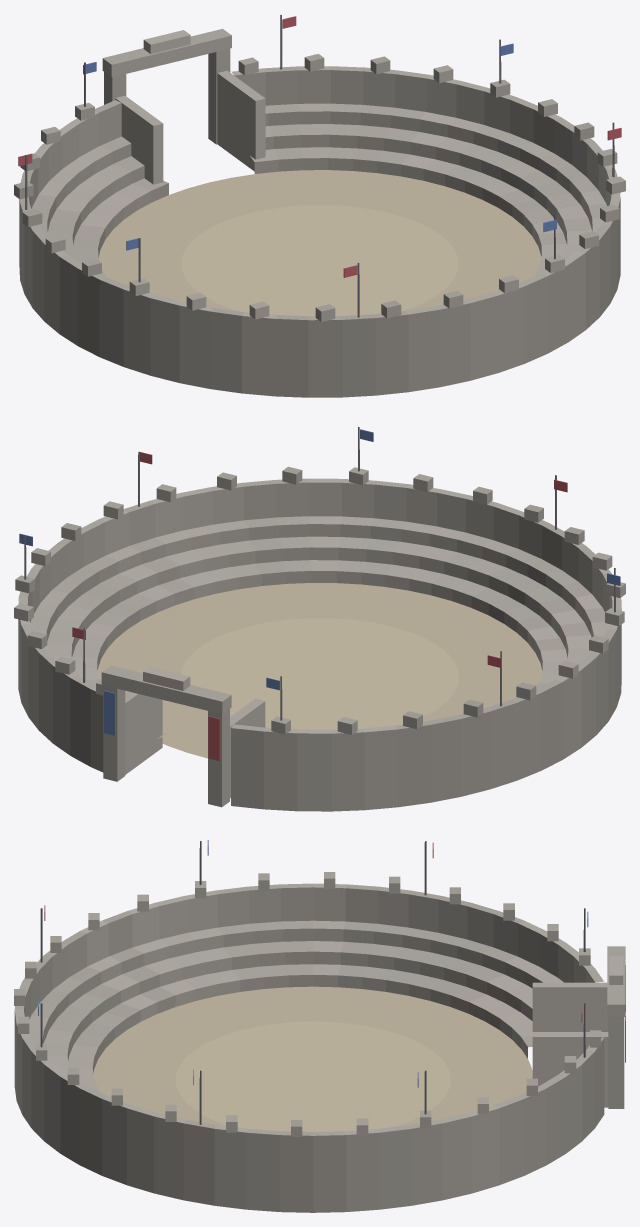
File: arena.glb
3 views of the same model, one above another, from view 1: azimuth 30°, elevation 25°; view 2: azimuth 150°, elevation 25°; view 3: azimuth 270°, elevation 25° (orthographic).
Parts seen in each view (by area): view 1: arena; view 2: arena; view 3: arena.
Part boxes in pixels (x1,y1,x2,y2): arena: (14,15,625,397); arena: (14,427,625,811); arena: (14,840,625,1212).
Size of the model in its own units: 26.26 by 6.3 by 26.65.
